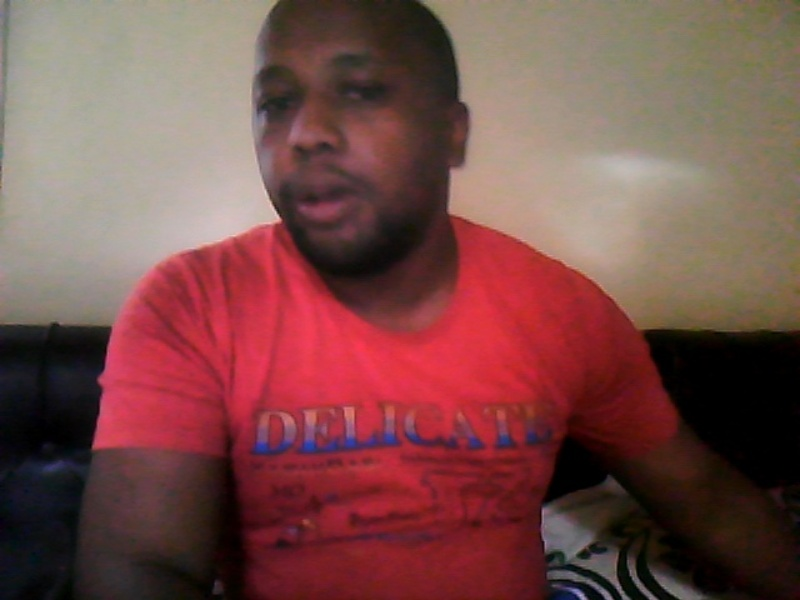TsisyArotava: (237, 7, 480, 283)
